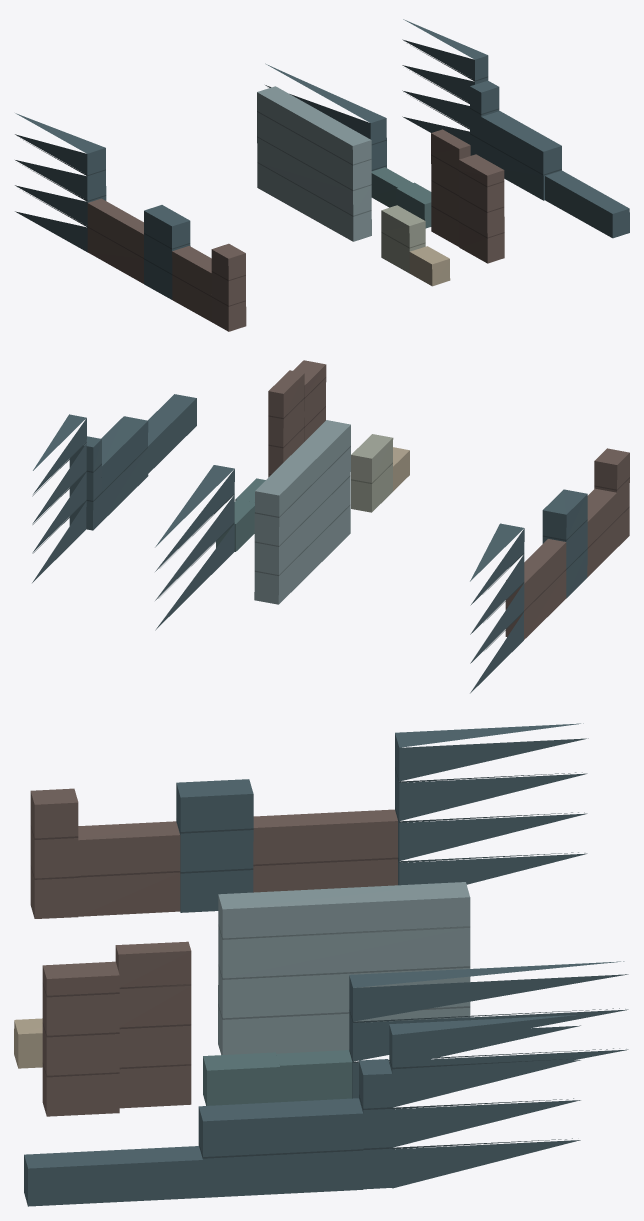
The model's file is terminal-29---122_-16.glb.
The picture shows the model from 3 angles, top to bottom: view 1: azimuth 30°, elevation 25°; view 2: azimuth 150°, elevation 25°; view 3: azimuth 270°, elevation 25°; orthographic projection. The views are drawn at different scales.
Parts seen in each view (by area): view 1: measured-industrial; view 2: measured-industrial; view 3: measured-industrial.
Boxes of the visible parts, x1,y1,x2,y2 form: measured-industrial: [15, 19, 629, 331]; measured-industrial: [32, 360, 629, 693]; measured-industrial: [14, 723, 628, 1206].
Bounding box in the file's own units: 53.65 × 11.77 × 41.97.
